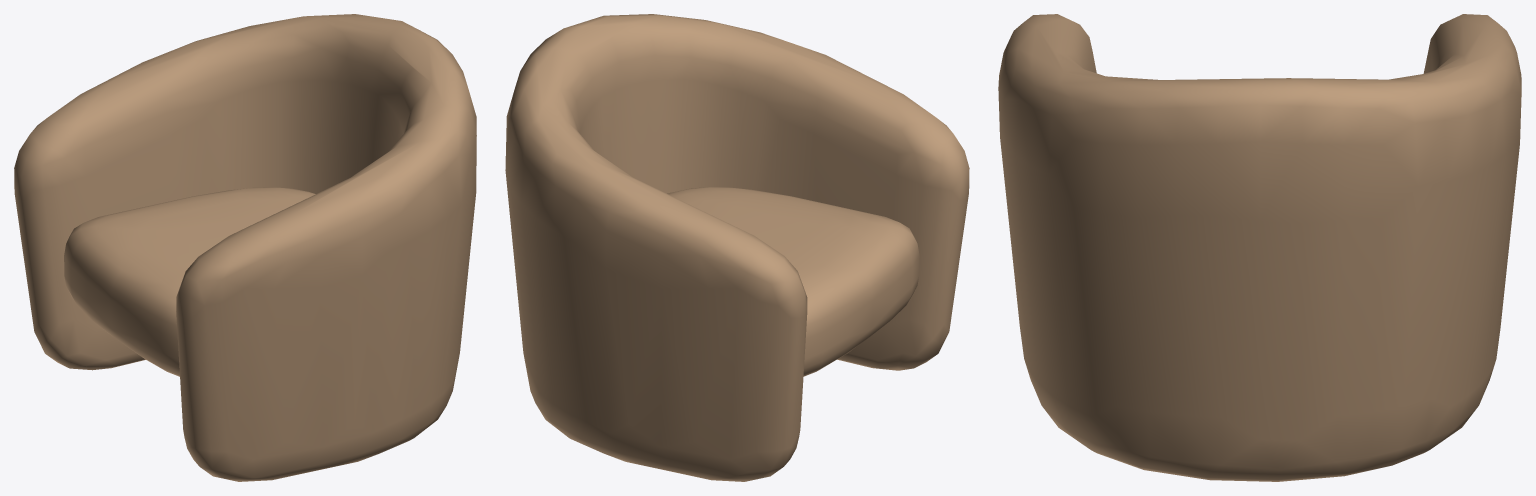
Rendered from armchair_05_light_brown.fbx.
3 renders of one model, left to right at view 1: azimuth 30°, elevation 25°; view 2: azimuth 150°, elevation 25°; view 3: azimuth 270°, elevation 25°, orthographic. The views are drawn at different scales.
Visible parts, largest first — view 1: armchair_05_light_brown; view 2: armchair_05_light_brown; view 3: armchair_05_light_brown.
Part boxes in pixels (left/top/right/bottom): armchair_05_light_brown: left=14, top=14, right=476, bottom=481; armchair_05_light_brown: left=505, top=14, right=969, bottom=481; armchair_05_light_brown: left=998, top=14, right=1521, bottom=481.
Bounding box in the file's own units: 113 × 103 × 120.
1 material, 1 textured.
